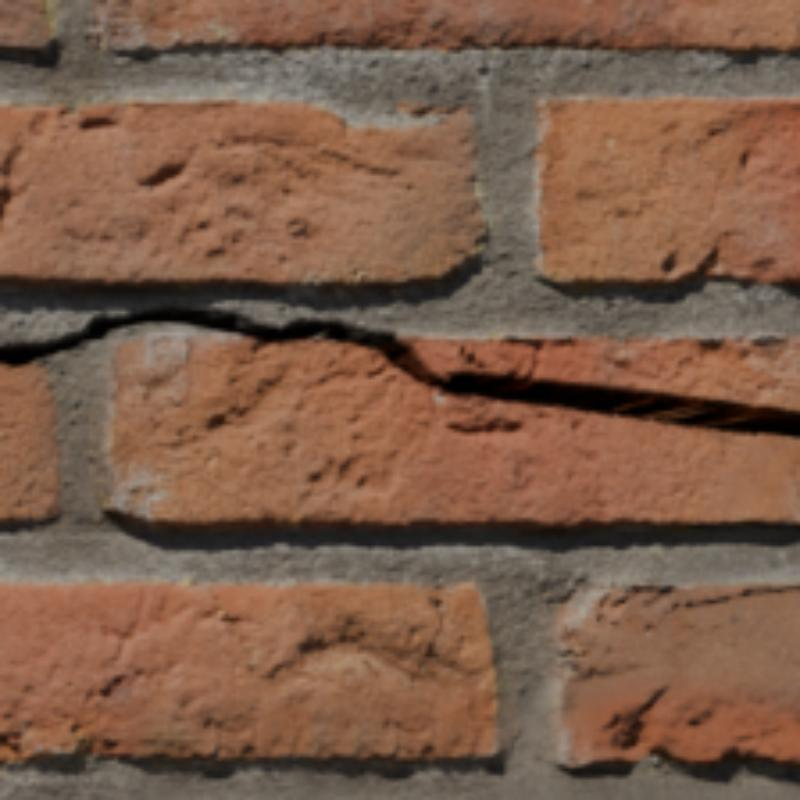pothole: (0, 304, 796, 436)
